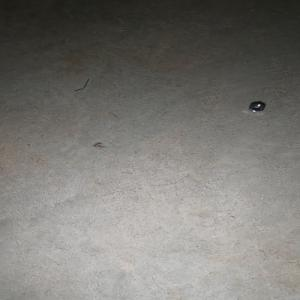Nut: (248, 101, 266, 112)
